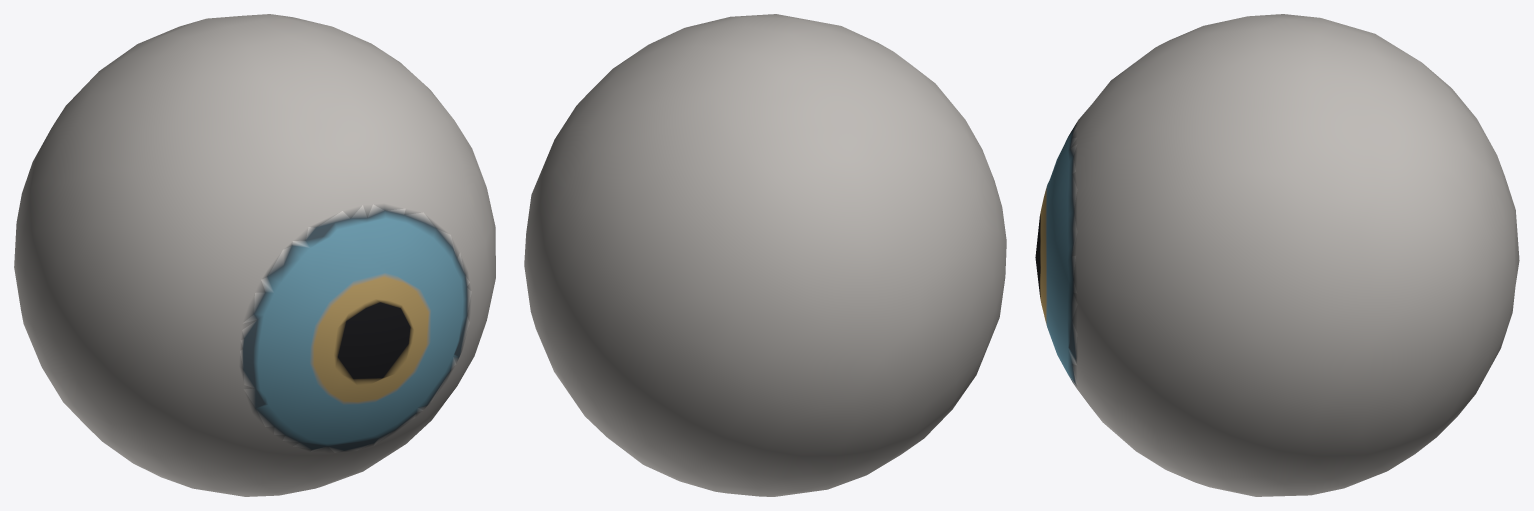
The model's file is amanita-scout-eye0.glb.
The picture shows the model from 3 angles, left to right: view 1: azimuth 30°, elevation 25°; view 2: azimuth 150°, elevation 25°; view 3: azimuth 270°, elevation 25°; orthographic projection.
Parts seen in each view (by area): view 1: body; view 2: body; view 3: body.
Part boxes in pixels (x1,y1,x2,y2): body: [14, 14, 495, 496]; body: [524, 14, 1006, 496]; body: [1035, 14, 1519, 496].
Size of the model in its own units: 0.2408 by 0.2402 by 0.2409.
